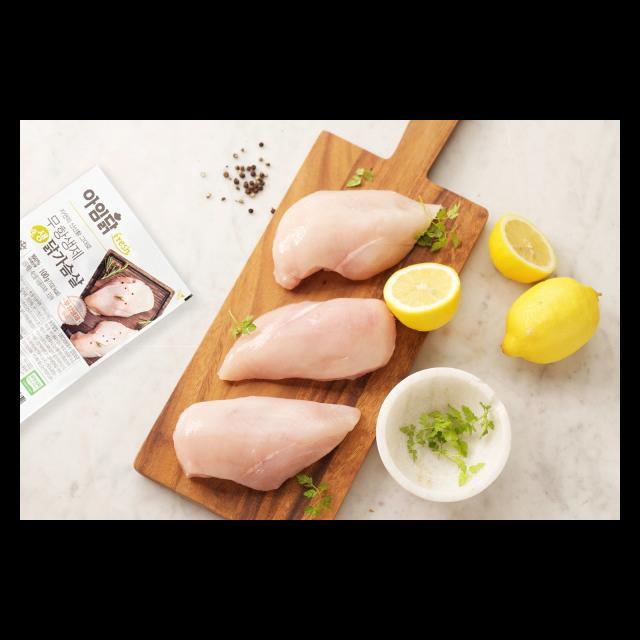chicken: (172, 394, 361, 492), (272, 186, 443, 290), (218, 296, 397, 383)
